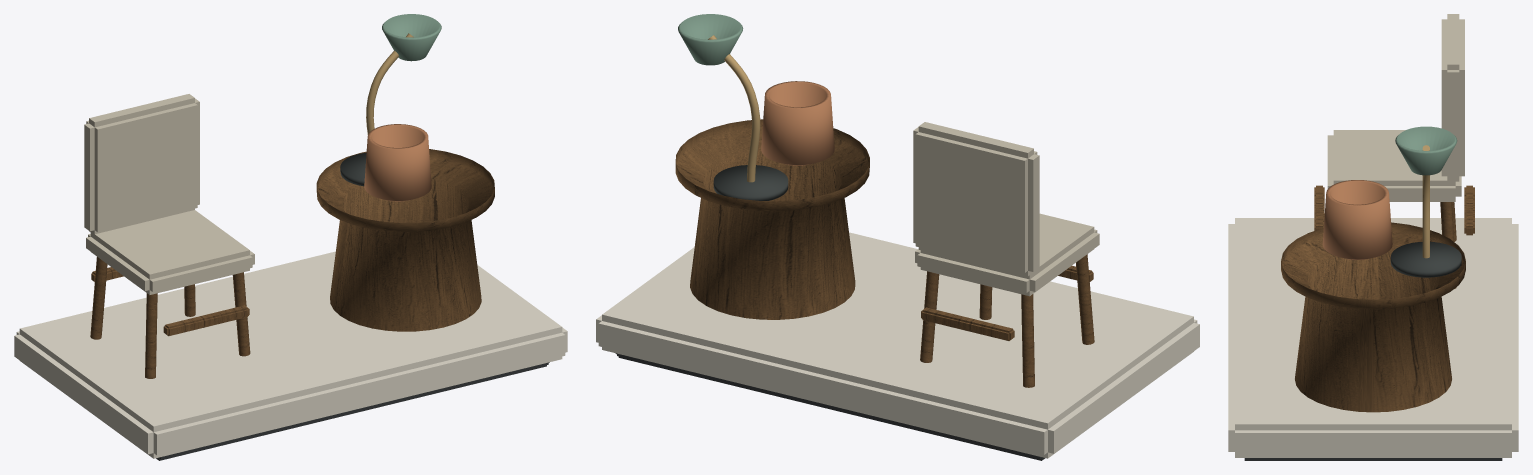
The model's file is collection_v29_furniture_0.glb.
3 views of the same model, side by side, from view 1: azimuth 30°, elevation 25°; view 2: azimuth 150°, elevation 25°; view 3: azimuth 270°, elevation 25° (orthographic). The views are drawn at different scales.
Visible parts, largest first — view 1: collection_v29_furniture_0_V29_ivory_lacquer, collection_v29_furniture_0_CC0_Oak_veneer, collection_v29_furniture_0_Woven_1.010, collection_v29_furniture_0_Glazed_ceramic_2.001, collection_v29_furniture_0_CC0_Oak_veneer.007, collection_v29_furniture_0_V23_soft_sage.017, collection_v29_furniture_0_Anodised_graphite, collection_v29_furniture_0_V23_satin_brass.009, collection_v29_furniture_0_V23_ceramic_graphite.012; view 2: collection_v29_furniture_0_V29_ivory_lacquer, collection_v29_furniture_0_CC0_Oak_veneer, collection_v29_furniture_0_Woven_1.010, collection_v29_furniture_0_Glazed_ceramic_2.001, collection_v29_furniture_0_CC0_Oak_veneer.007, collection_v29_furniture_0_V23_soft_sage.017, collection_v29_furniture_0_V23_ceramic_graphite.012, collection_v29_furniture_0_Anodised_graphite, collection_v29_furniture_0_V23_satin_brass.009; view 3: collection_v29_furniture_0_V29_ivory_lacquer, collection_v29_furniture_0_CC0_Oak_veneer, collection_v29_furniture_0_Woven_1.010, collection_v29_furniture_0_Glazed_ceramic_2.001, collection_v29_furniture_0_V23_soft_sage.017, collection_v29_furniture_0_V23_ceramic_graphite.012, collection_v29_furniture_0_CC0_Oak_veneer.007, collection_v29_furniture_0_Anodised_graphite, collection_v29_furniture_0_V23_satin_brass.009.
Part boxes in pixels (bbox=[...]): collection_v29_furniture_0_V29_ivory_lacquer: bbox=[14, 251, 567, 458]; collection_v29_furniture_0_CC0_Oak_veneer: bbox=[316, 149, 494, 331]; collection_v29_furniture_0_Woven_1.010: bbox=[84, 94, 254, 294]; collection_v29_furniture_0_Glazed_ceramic_2.001: bbox=[364, 124, 431, 201]; collection_v29_furniture_0_CC0_Oak_veneer.007: bbox=[90, 257, 250, 378]; collection_v29_furniture_0_V23_soft_sage.017: bbox=[382, 14, 441, 61]; collection_v29_furniture_0_Anodised_graphite: bbox=[156, 362, 549, 460]; collection_v29_furniture_0_V23_satin_brass.009: bbox=[366, 33, 413, 134]; collection_v29_furniture_0_V23_ceramic_graphite.012: bbox=[340, 153, 366, 186]; collection_v29_furniture_0_V29_ivory_lacquer: bbox=[596, 232, 1199, 458]; collection_v29_furniture_0_CC0_Oak_veneer: bbox=[675, 119, 869, 319]; collection_v29_furniture_0_Woven_1.010: bbox=[913, 122, 1099, 296]; collection_v29_furniture_0_Glazed_ceramic_2.001: bbox=[761, 81, 834, 165]; collection_v29_furniture_0_CC0_Oak_veneer.007: bbox=[920, 254, 1094, 387]; collection_v29_furniture_0_V23_soft_sage.017: bbox=[678, 14, 743, 65]; collection_v29_furniture_0_V23_ceramic_graphite.012: bbox=[713, 165, 788, 200]; collection_v29_furniture_0_Anodised_graphite: bbox=[615, 353, 1045, 460]; collection_v29_furniture_0_V23_satin_brass.009: bbox=[708, 35, 760, 182]; collection_v29_furniture_0_V29_ivory_lacquer: bbox=[1228, 218, 1518, 457]; collection_v29_furniture_0_CC0_Oak_veneer: bbox=[1281, 222, 1465, 412]; collection_v29_furniture_0_Woven_1.010: bbox=[1327, 14, 1464, 201]; collection_v29_furniture_0_Glazed_ceramic_2.001: bbox=[1322, 180, 1392, 259]; collection_v29_furniture_0_V23_soft_sage.017: bbox=[1395, 126, 1457, 175]; collection_v29_furniture_0_V23_ceramic_graphite.012: bbox=[1390, 242, 1461, 277]; collection_v29_furniture_0_CC0_Oak_veneer.007: bbox=[1314, 185, 1474, 288]; collection_v29_furniture_0_Anodised_graphite: bbox=[1244, 458, 1502, 460]; collection_v29_furniture_0_V23_satin_brass.009: bbox=[1422, 145, 1429, 258].
Bounding box in the file's own units: 1.9 × 1.25 × 1.1.
9 materials, 2 textured.
